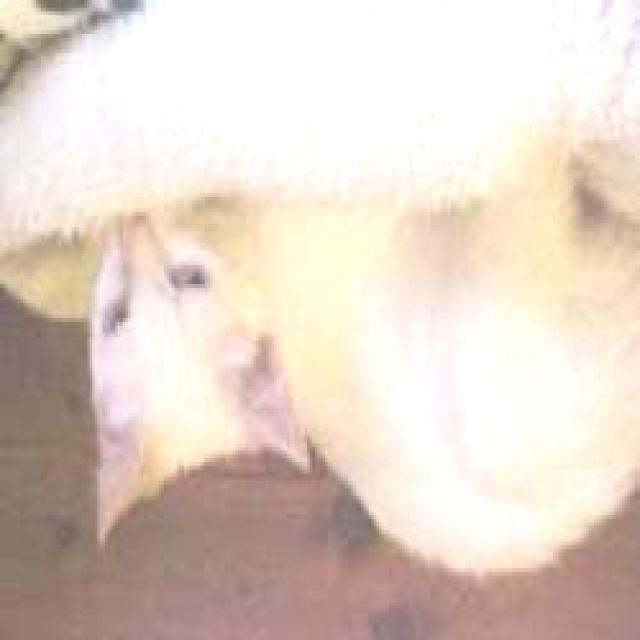Kucing: (25, 155, 640, 577)
